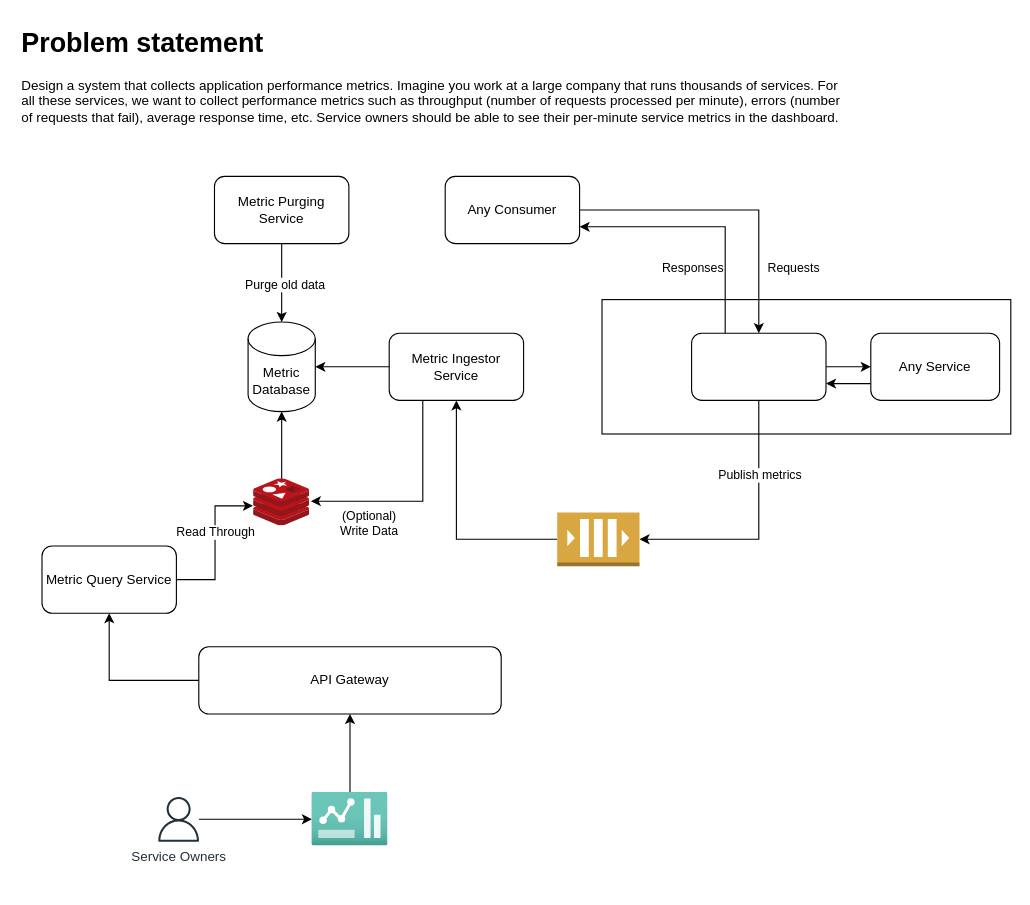
Some shapes in this 1030 by 905 pixel diagram are drawn without their labels. The shapes that lost their labels are listed below. From the top down, each one's box as (x1, y1, x2, y2) in pixels, then its label:
(690, 332, 826, 400): Service Proxy Sidecar
(601, 298, 1011, 434): Deployable Unit
(556, 511, 640, 566): Messaging System with partitioning
(311, 792, 388, 846): Service Dashboard Application
